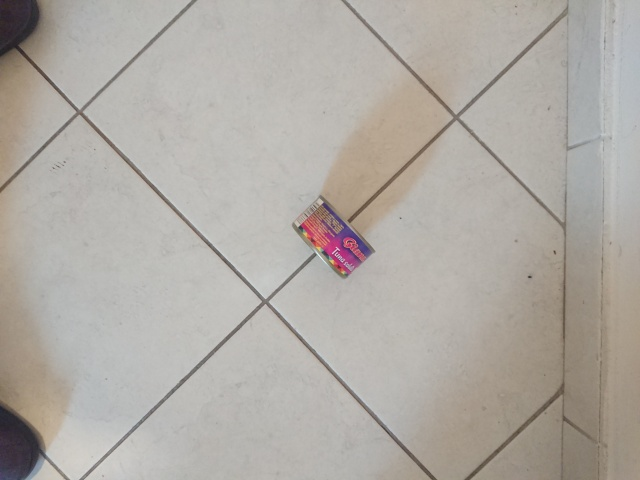Giana Tuna Salad Mexico 185g: (291, 193, 378, 282)
